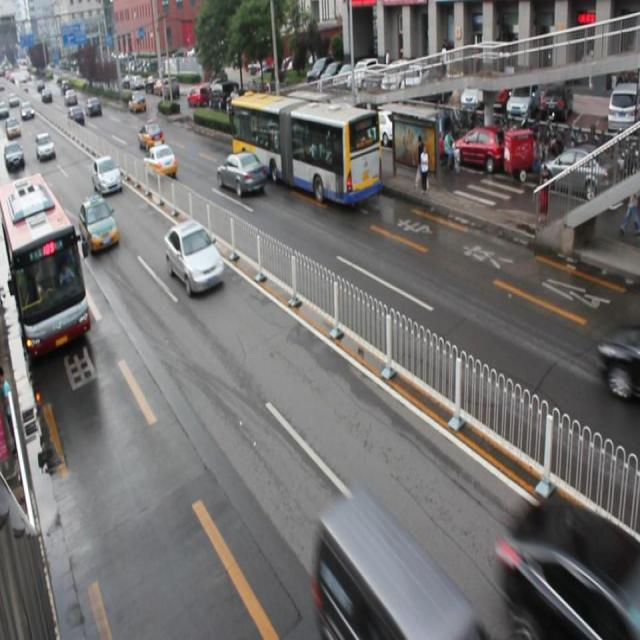car: (501, 509, 639, 640), (164, 218, 224, 296), (216, 152, 265, 198), (80, 197, 117, 251), (143, 139, 178, 180), (92, 155, 122, 196), (138, 120, 164, 150)
truck: (319, 492, 477, 640)
van: (230, 91, 379, 209), (1, 177, 90, 359)
